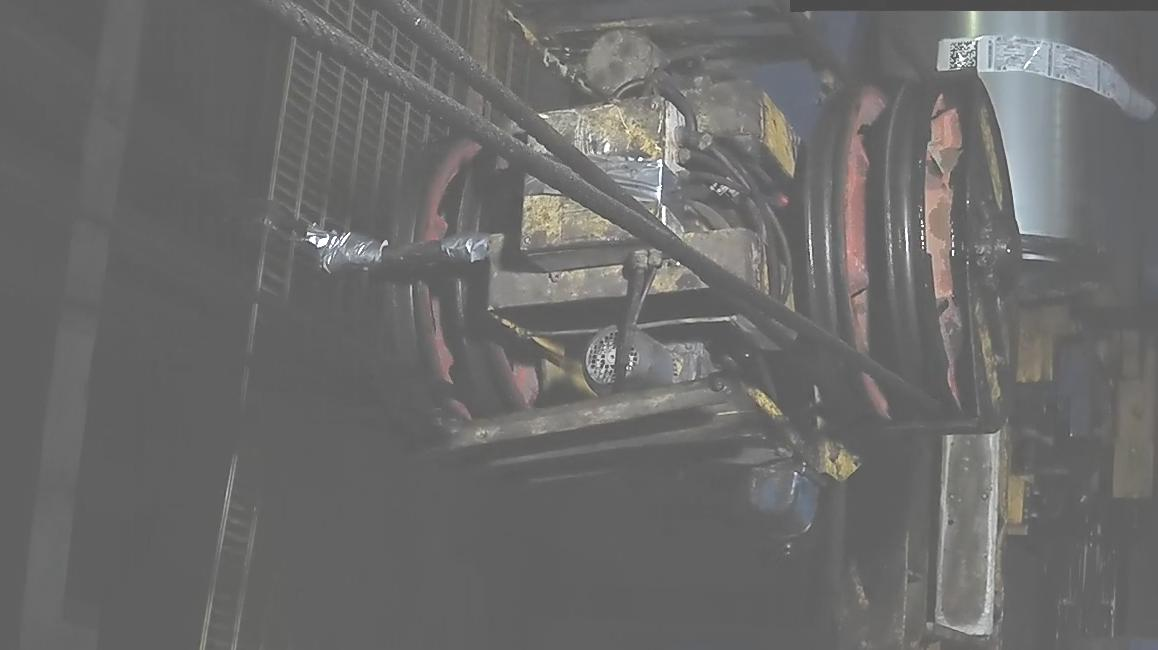data matrix: (948, 40, 980, 73)
